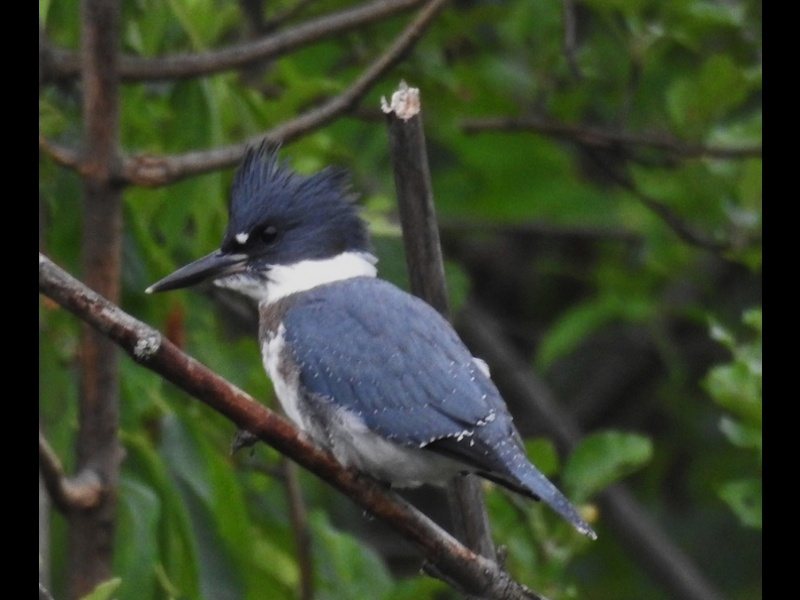kingfisher: (141, 137, 603, 547)
